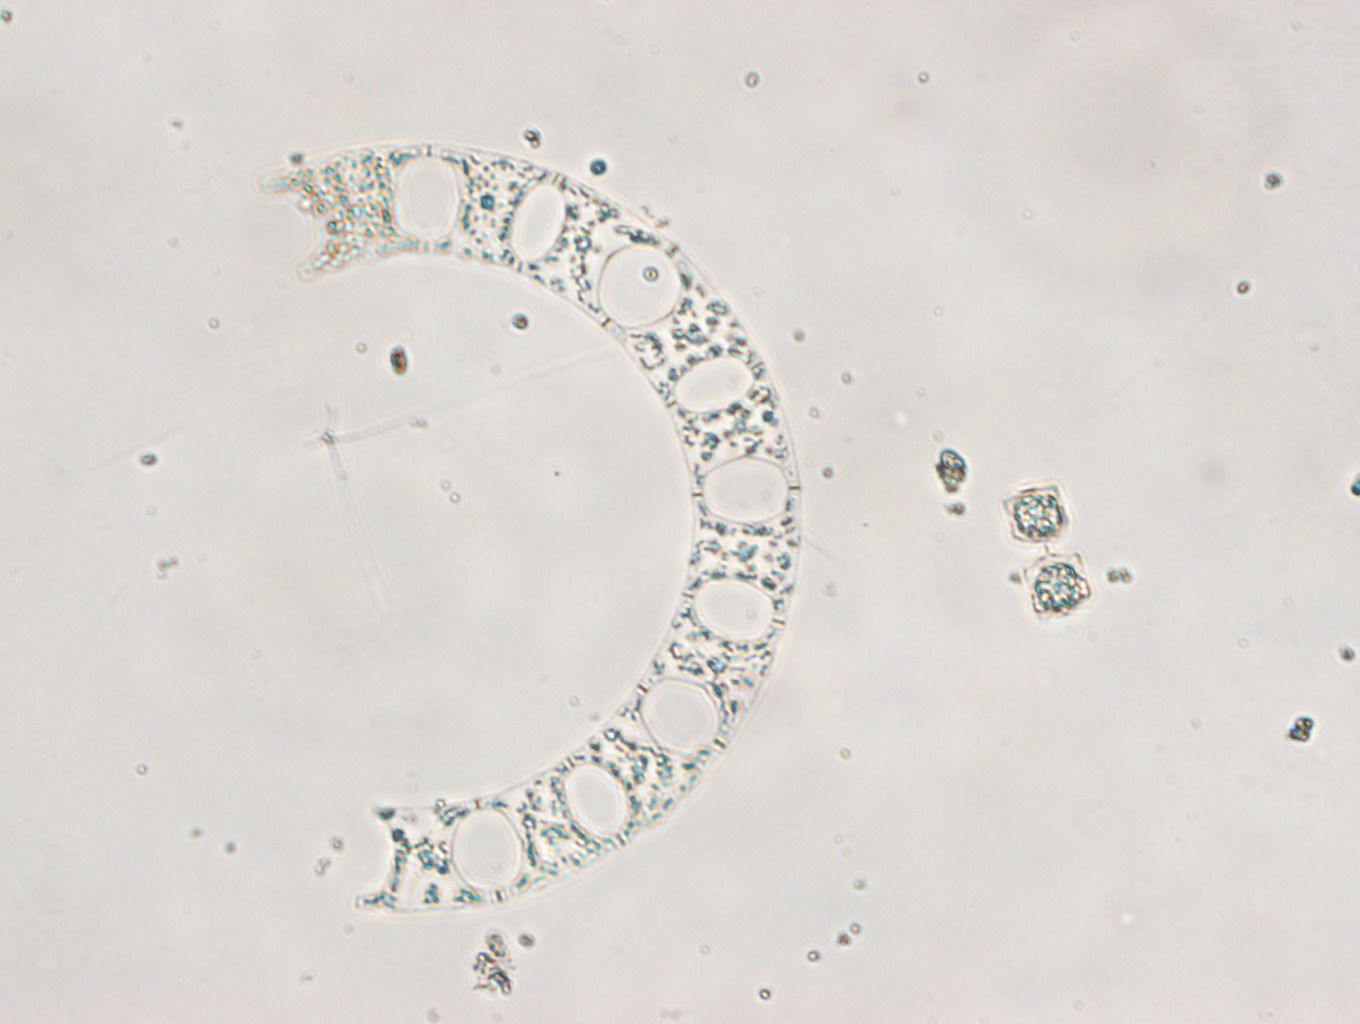detonula pumila: (1001, 480, 1093, 621)
eucampia: (256, 140, 800, 915)
